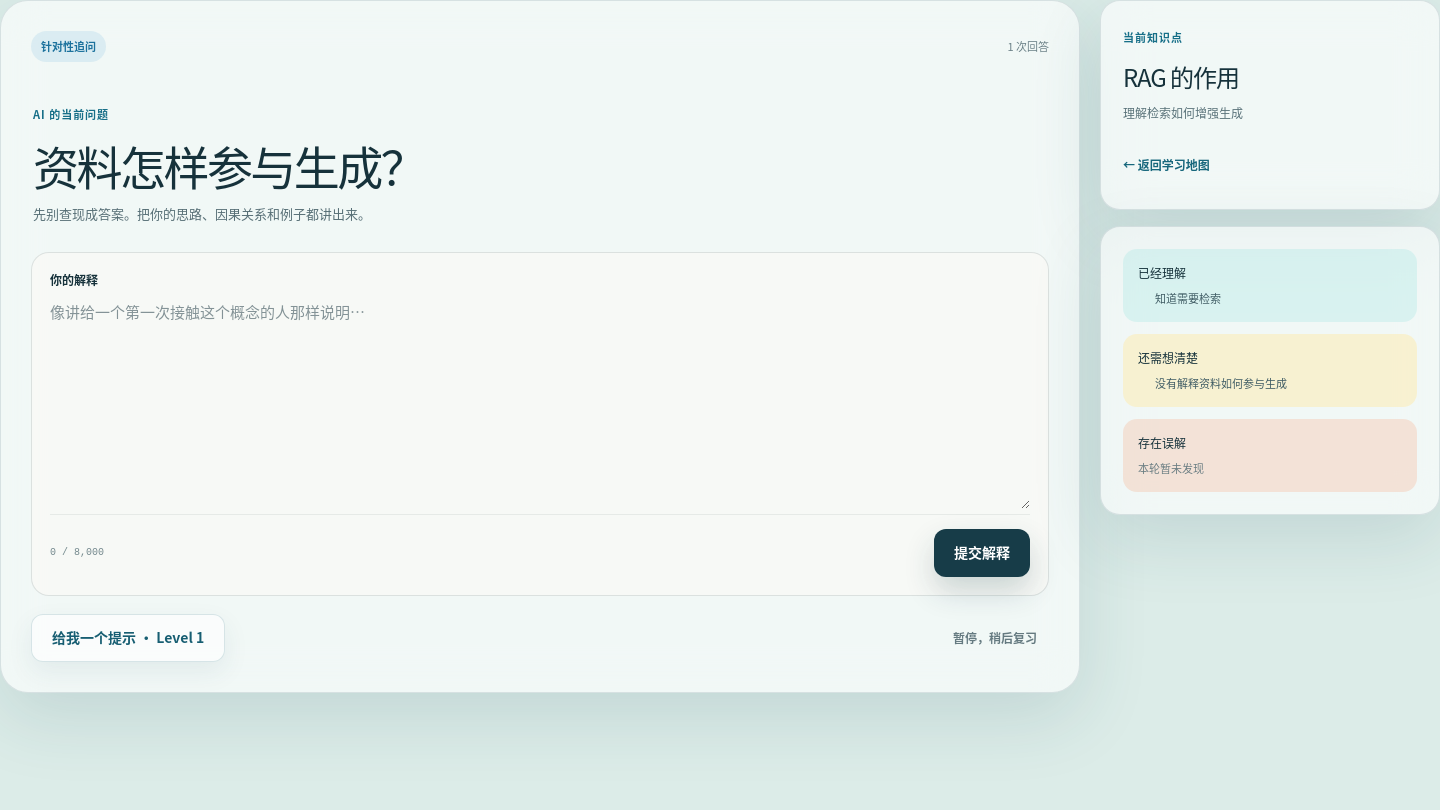
Scenario: TrainingPanel › 请求支持后更新内容和下一等级按钮
This screenshot has width=1440, height=810.
Click the button "给我一个提示 · Level 1".
click(128, 638)  # box [31,614,225,662]
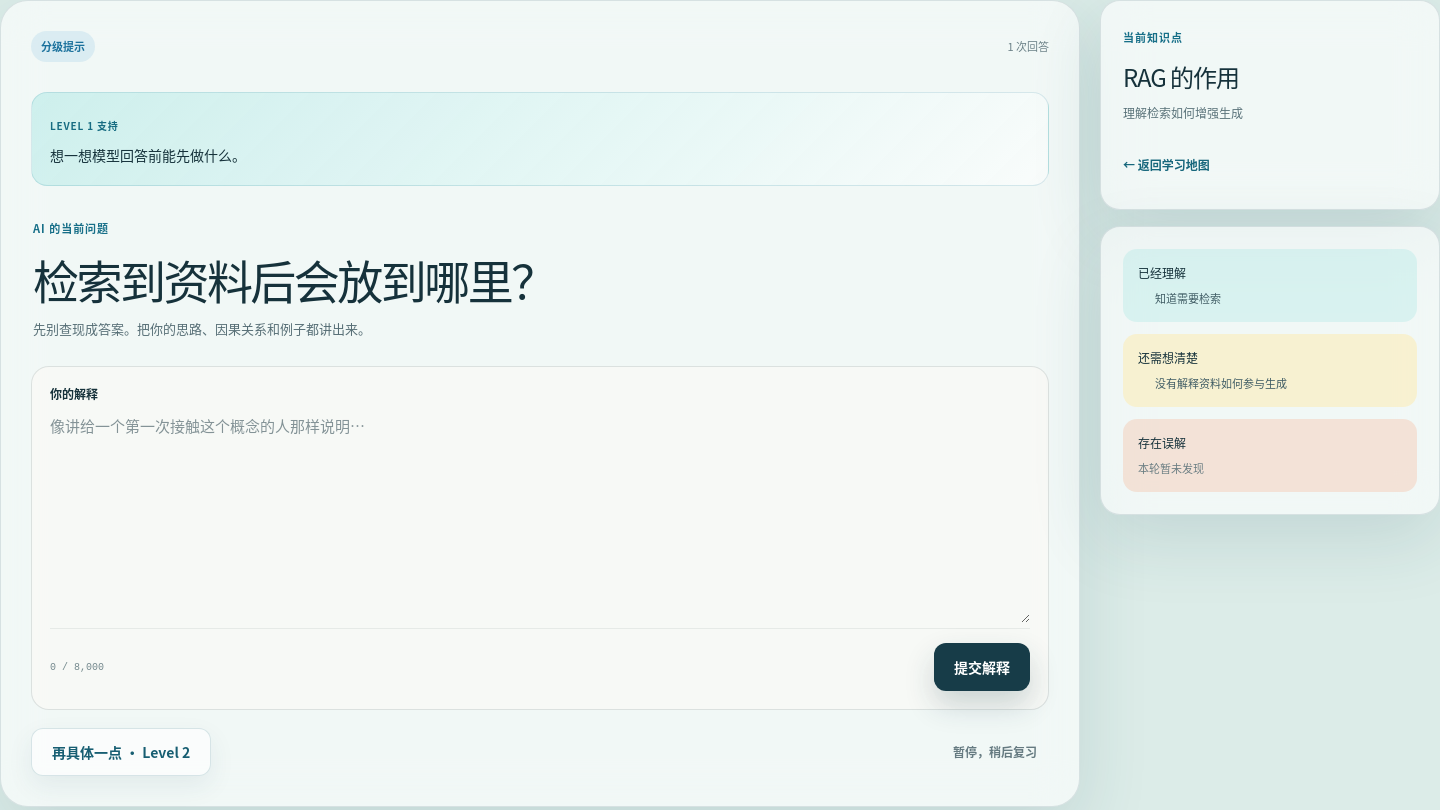
Expected: the button "再具体一点 · Level 2" is enabled, [31,728,211,776]
Result: the text "想一想模型回答前能先做什么。" is shown at [50,144,246,164]
